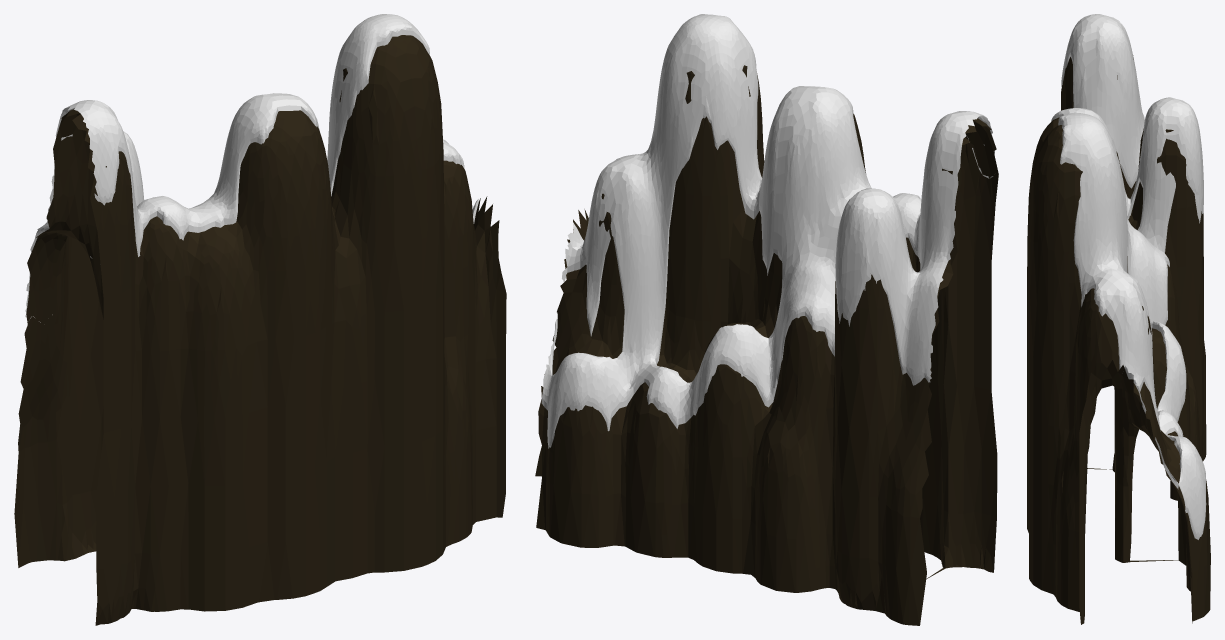
The model's file is Mtn_Wall_S1.fbx.
The picture shows the model from 3 angles, left to right: view 1: azimuth 30°, elevation 25°; view 2: azimuth 150°, elevation 25°; view 3: azimuth 270°, elevation 25°; orthographic projection. The views are drawn at different scales.
Parts seen in each view (by area): view 1: Mtn_Wall_S1; view 2: Mtn_Wall_S1; view 3: Mtn_Wall_S1.
Boxes of the visible parts, x1,y1,x2,y2 form: Mtn_Wall_S1: (14, 14, 506, 625); Mtn_Wall_S1: (535, 14, 998, 625); Mtn_Wall_S1: (1027, 14, 1210, 624).
Bounding box in the file's own units: 21773 × 25898 × 9423.
